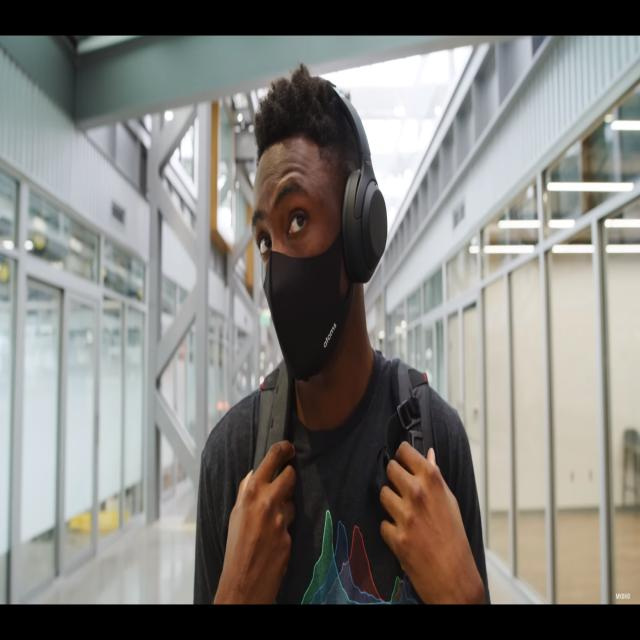Headphone: (331, 82, 387, 284)
